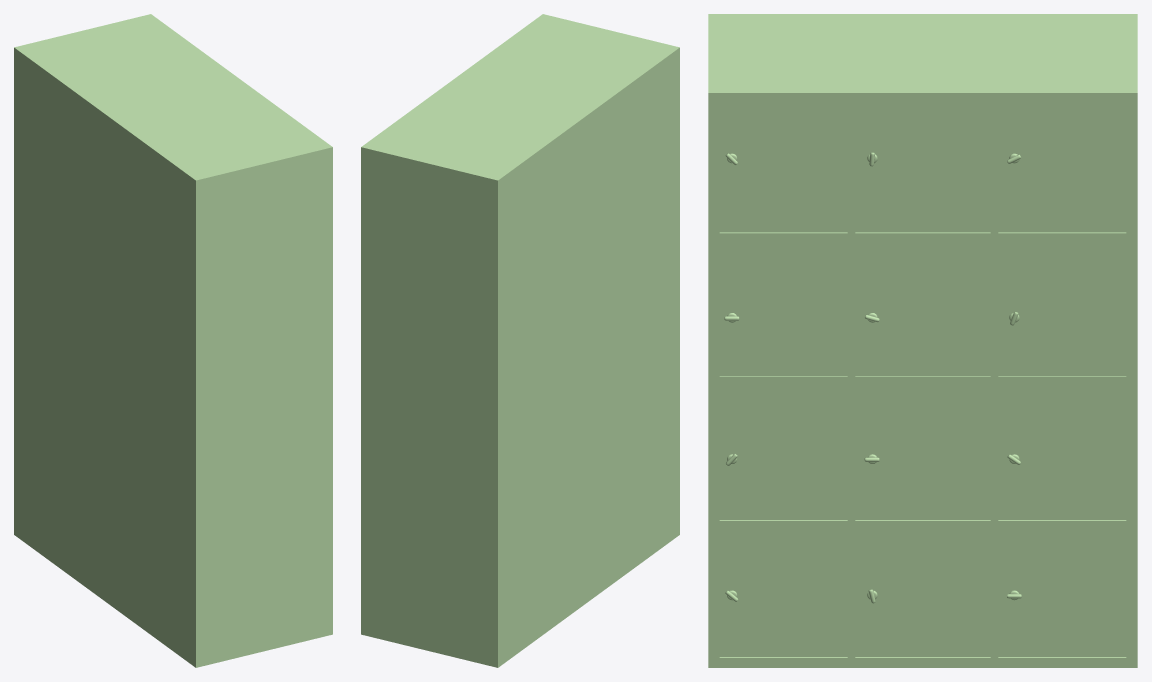
Rendered from taquillas.fbx.
The picture shows the model from 3 angles, left to right: view 1: azimuth 30°, elevation 25°; view 2: azimuth 150°, elevation 25°; view 3: azimuth 270°, elevation 25°; orthographic projection. The views are drawn at different scales.
Parts seen in each view (by area): view 1: Cube; view 2: Cube; view 3: Cube.
Boxes of the visible parts, <box> form: Cube: <box>14,14,332,667</box>; Cube: <box>361,14,679,667</box>; Cube: <box>708,14,1137,667</box>.
Size of the model in its own units: 50.65 by 170 by 115.
